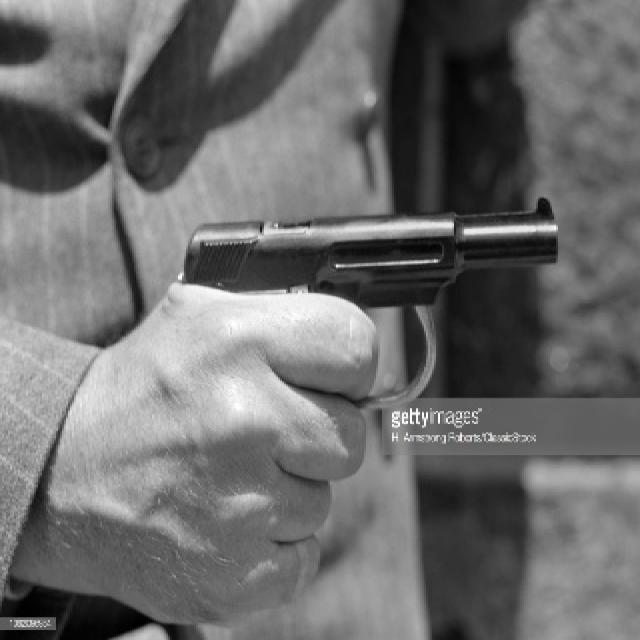handgun: (173, 210, 555, 404)
